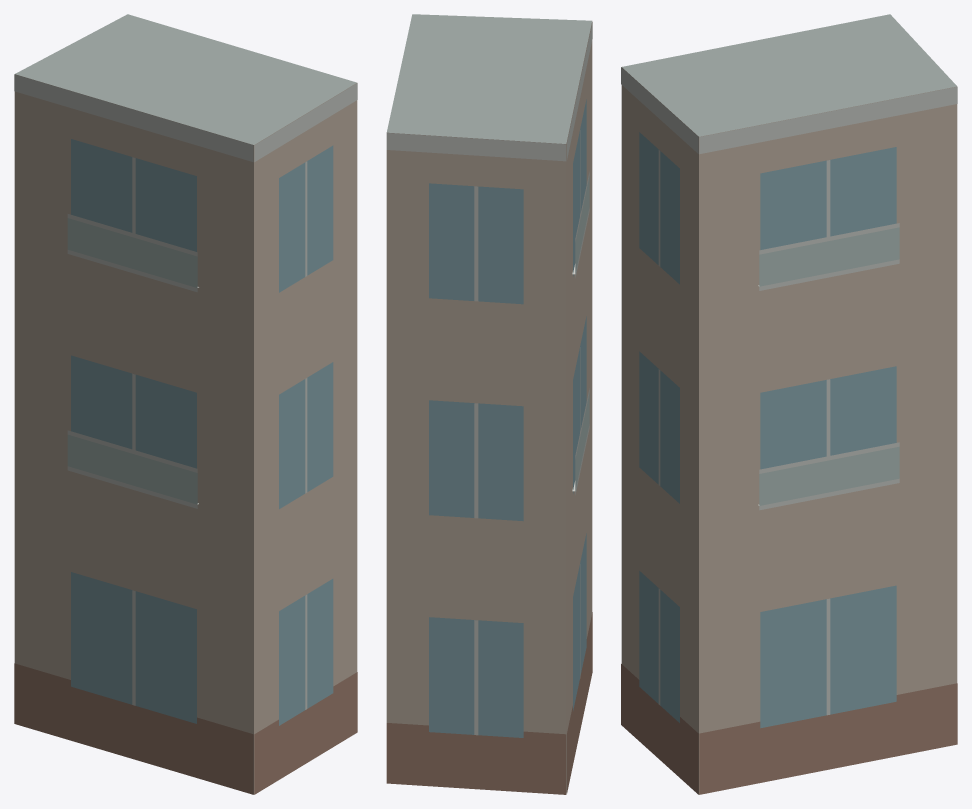
The model's file is survey-upis-32744151.glb.
3 renders of one model, left to right at view 1: azimuth 30°, elevation 25°; view 2: azimuth 150°, elevation 25°; view 3: azimuth 270°, elevation 25°, orthographic.
Parts seen in each view (by area): view 1: survey-upis-32744151.tmp; view 2: survey-upis-32744151.tmp; view 3: survey-upis-32744151.tmp.
Boxes of the visible parts, x1,y1,x2,y2 form: survey-upis-32744151.tmp: [14, 14, 357, 794]; survey-upis-32744151.tmp: [386, 14, 592, 794]; survey-upis-32744151.tmp: [621, 14, 957, 794].
Bounding box in the file's own units: 3.67 × 9.15 × 4.24.
